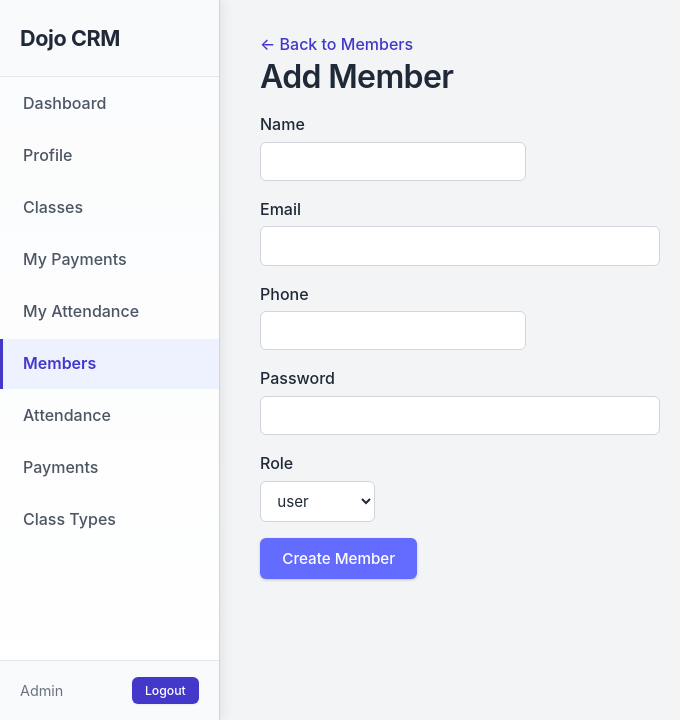
Test: AddMember › shows error on API failure
Expected: the heading "Add Member" is shown, [260,57,453,96]
Step 1. Type "New Person" into the field labelled "Name" → [393, 161], box [260,142,526,181]
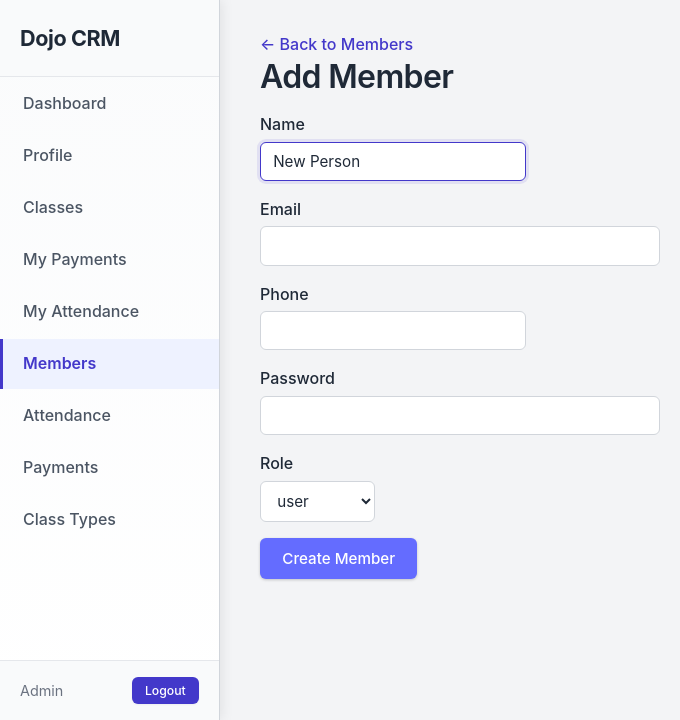
Step 2. Type "new@example.com" into the field labelled "Email" → [460, 246], box [260,226,660,266]
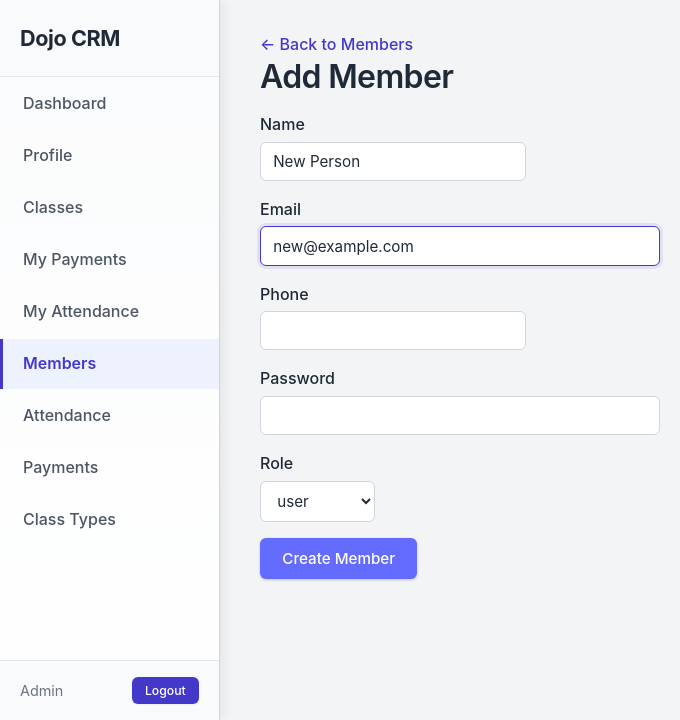
Step 3. Type "555-1234" into the field labelled "Phone" → [393, 331], box [260,311,526,350]
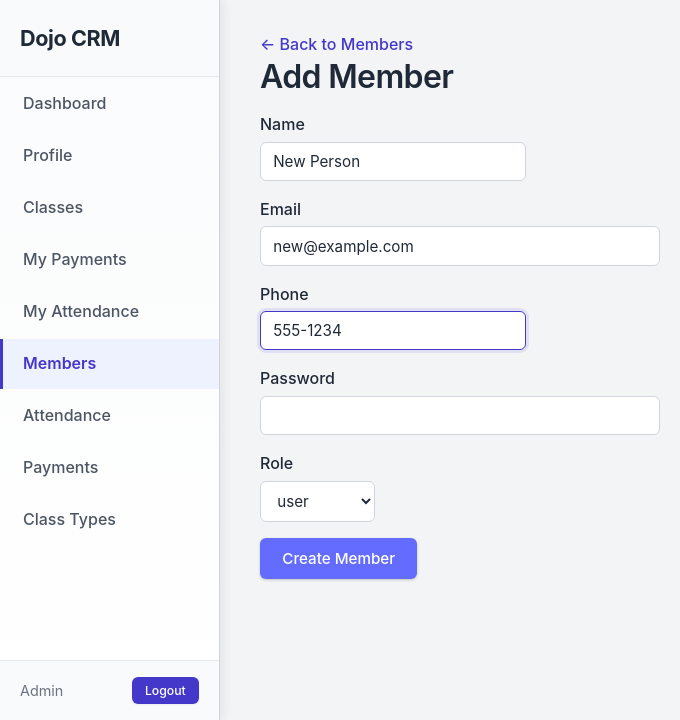
Step 4. Type "secret123" into the password field labelled "Password" → [460, 416], box [260,396,660,435]
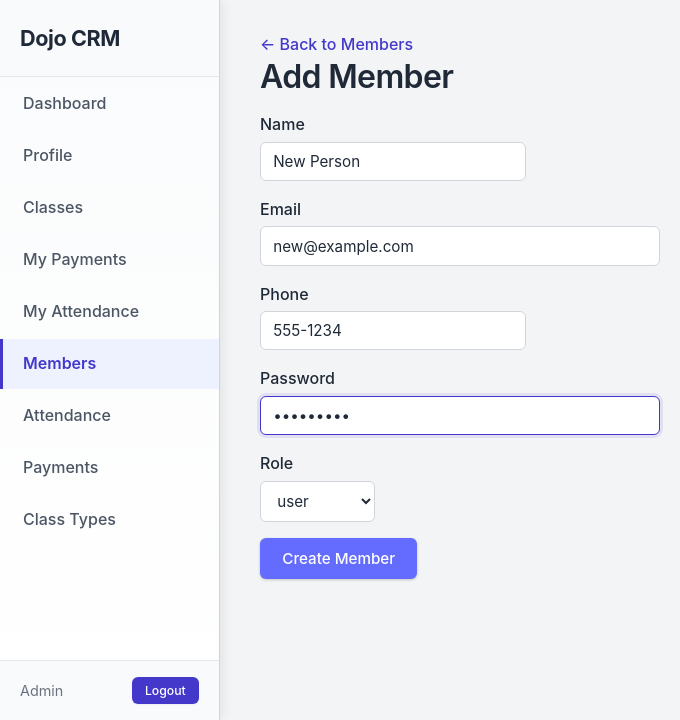
Step 5. Click the button "Create Member" → [339, 558], box [260,538,417,579]
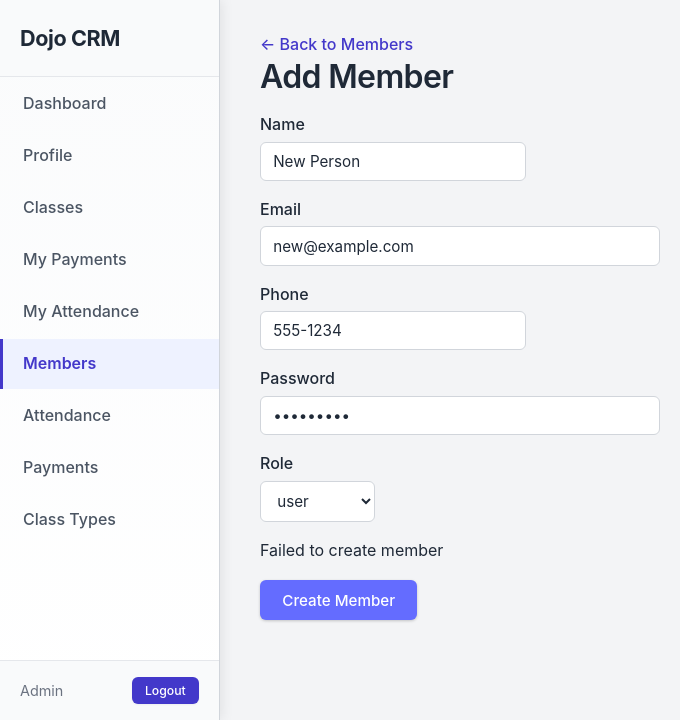
Expected: the message reads "Failed to create member", [260,540,443,560]
